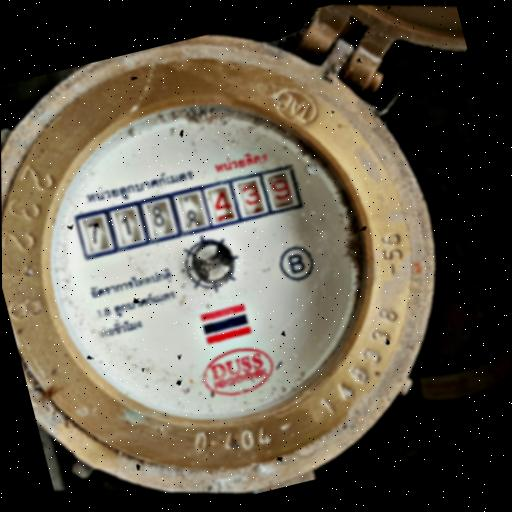1: (115, 209, 143, 246)
3: (237, 179, 264, 217)
4: (208, 187, 236, 225)
7: (84, 218, 110, 253)
8: (147, 202, 174, 238), (180, 194, 205, 230)
9: (267, 173, 295, 208)
border_water_meter_number: (74, 161, 305, 262)
